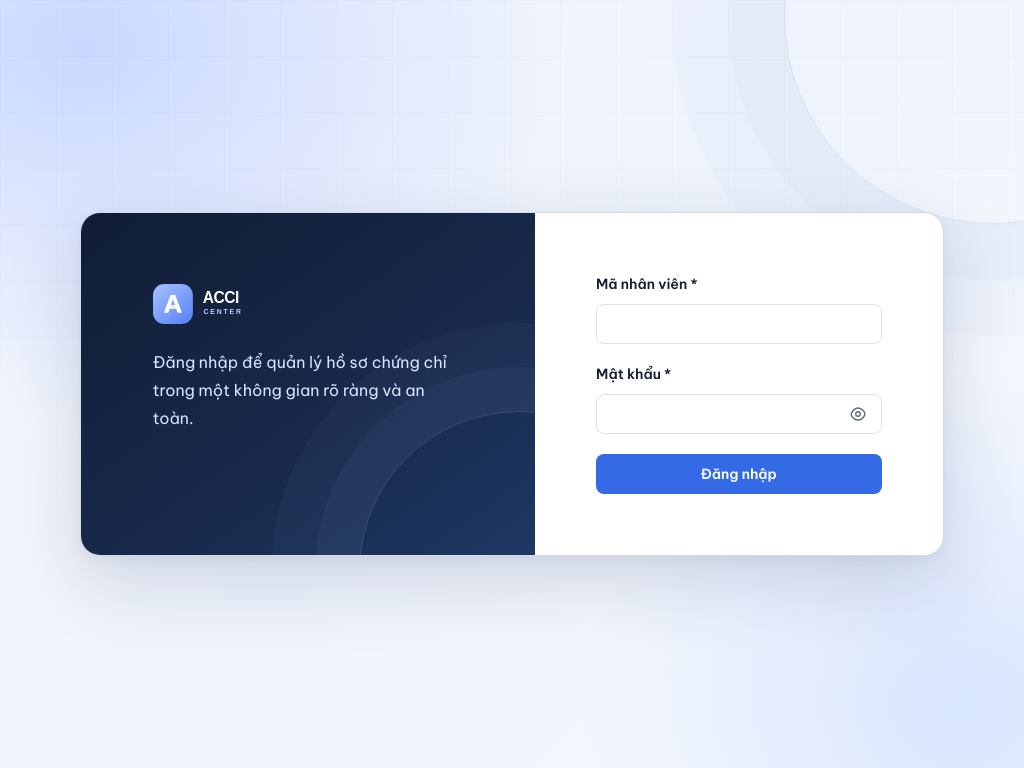
shows failed login inline without opening a dialog
Type "NV001" into the field labelled "Mã nhân viên *" at (739, 324), box top-left (596, 304), bottom-right (882, 344)
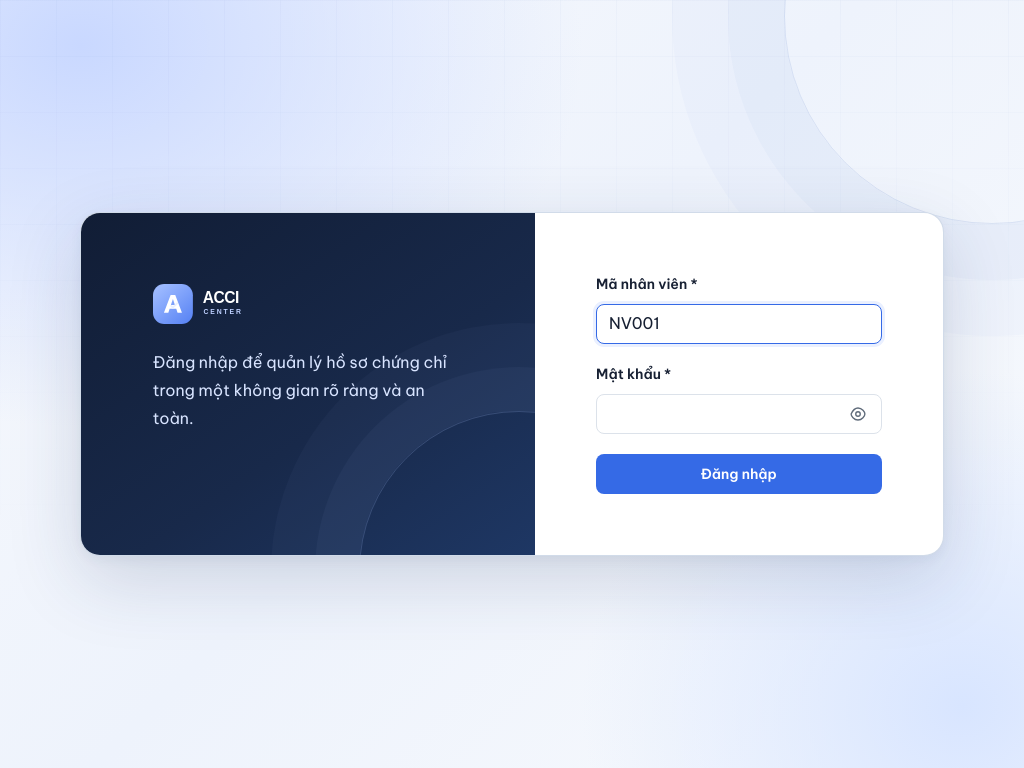
Type "wrong" into the password field labelled "Mật khẩu *" at (739, 414), box top-left (596, 394), bottom-right (882, 434)
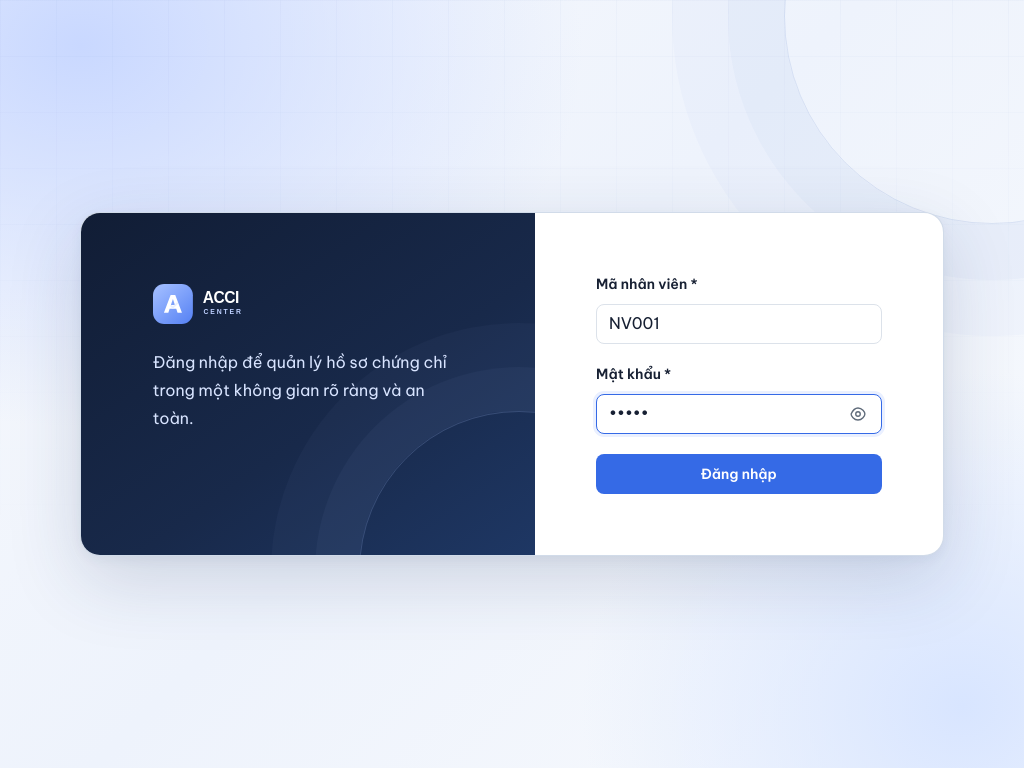
Click the button "Đăng nhập" at (739, 474), box top-left (596, 454), bottom-right (882, 494)
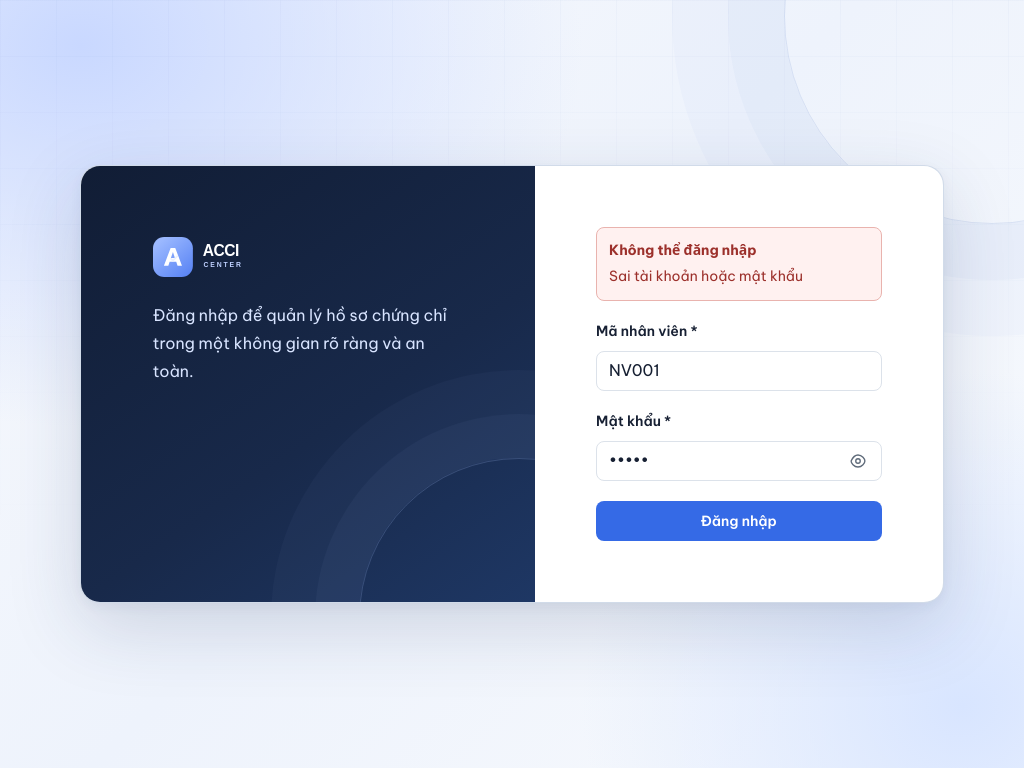
Now the message shows "Sai tài khoản hoặc mật khẩu", box top-left (609, 267), bottom-right (803, 285)
